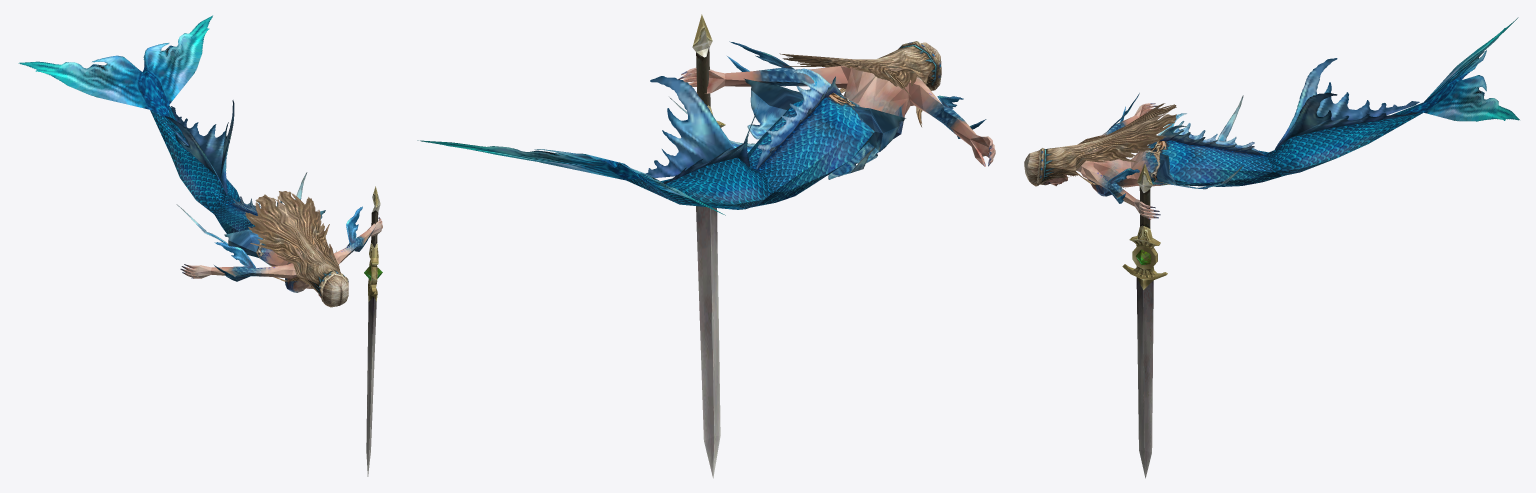
File: animal_meirenyu_1.obj
The picture shows the model from 3 angles, left to right: view 1: azimuth 30°, elevation 25°; view 2: azimuth 150°, elevation 25°; view 3: azimuth 270°, elevation 25°; orthographic projection. The views are drawn at different scales.
Visible parts, largest first — view 1: Animal_chijimeirenyu_a, objAnimal_chijimeirenyu_weapon_b; view 2: Animal_chijimeirenyu_a, objAnimal_chijimeirenyu_weapon_b; view 3: Animal_chijimeirenyu_a, objAnimal_chijimeirenyu_weapon_b.
Boxes of the visible parts, x1,y1,x2,y2 form: Animal_chijimeirenyu_a: [18, 15, 382, 307]; objAnimal_chijimeirenyu_weapon_b: [364, 186, 382, 476]; Animal_chijimeirenyu_a: [417, 41, 995, 215]; objAnimal_chijimeirenyu_weapon_b: [692, 14, 725, 478]; Animal_chijimeirenyu_a: [1024, 17, 1519, 219]; objAnimal_chijimeirenyu_weapon_b: [1122, 164, 1167, 478].
Size of the model in its own units: 90.96 by 153 by 177.
